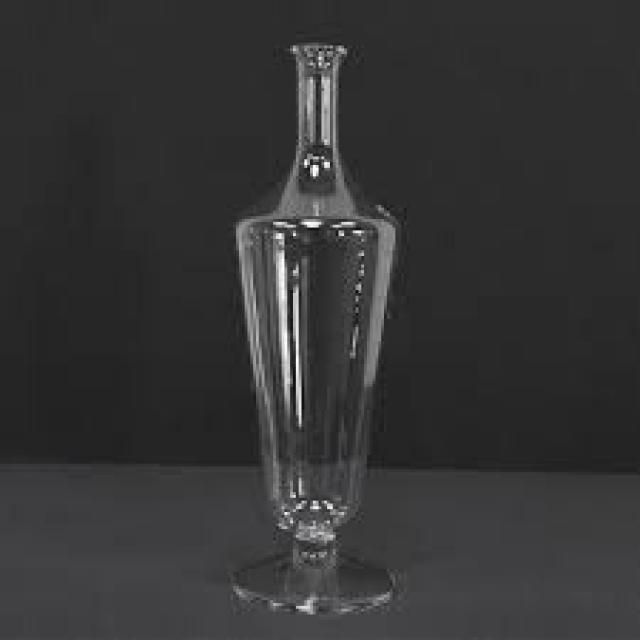glass: (225, 37, 398, 609)
